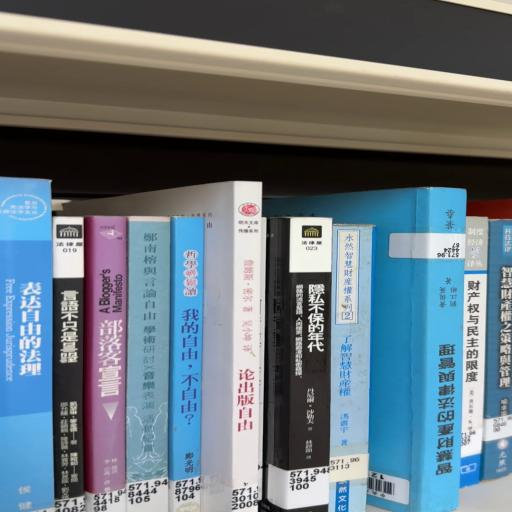reverse: (264, 189, 466, 512)
